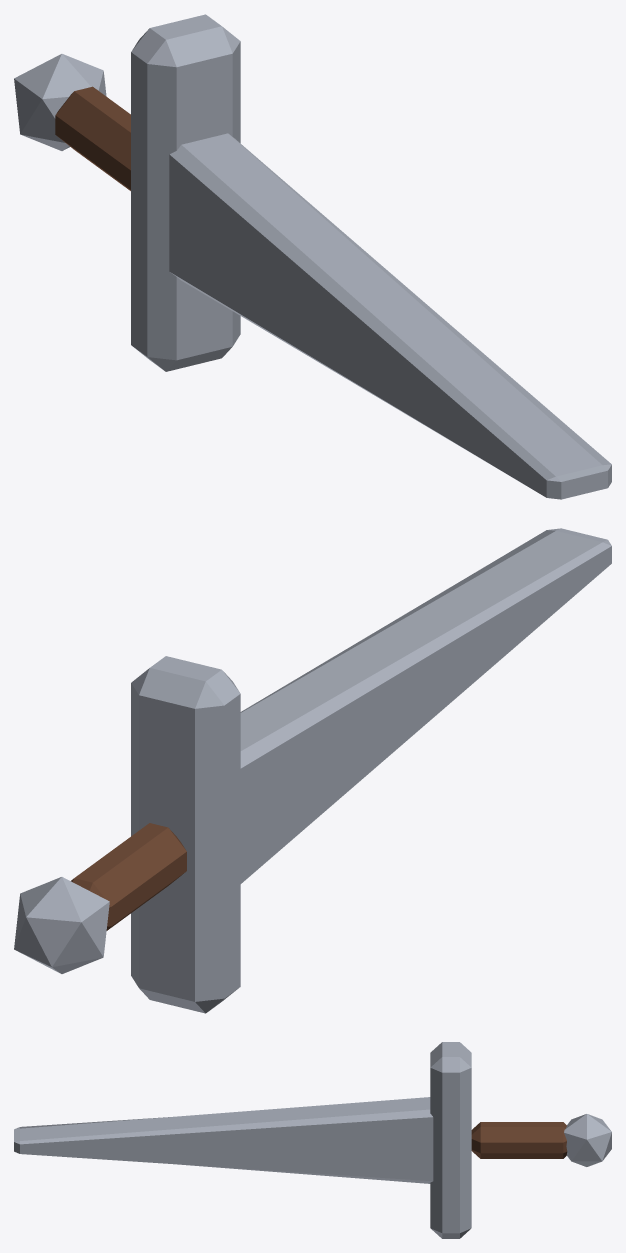
The model's file is ShortSword.fbx.
3 views of the same model, one above another, from view 1: azimuth 30°, elevation 25°; view 2: azimuth 150°, elevation 25°; view 3: azimuth 270°, elevation 25° (orthographic). The views are drawn at different scales.
Parts seen in each view (by area): view 1: ShortSword__hand_R; view 2: ShortSword__hand_R; view 3: ShortSword__hand_R.
Part boxes in pixels (x1=…): ShortSword__hand_R: x1=14, y1=14, x2=611, y2=499; ShortSword__hand_R: x1=14, y1=528, x2=611, y2=1013; ShortSword__hand_R: x1=14, y1=1042, x2=611, y2=1238.
Size of the model in its own units: 0.1 by 0.34 by 1.01.
